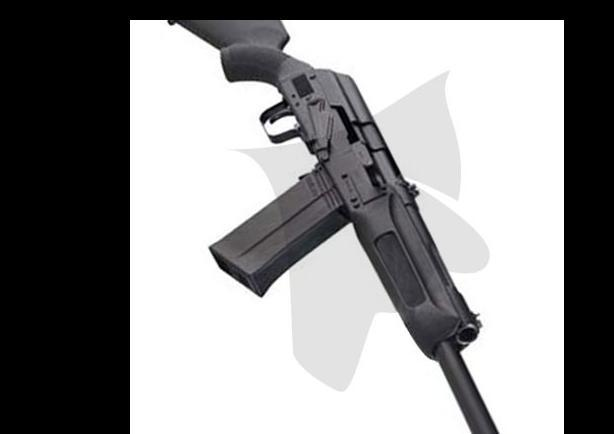larga: (166, 21, 500, 434)
